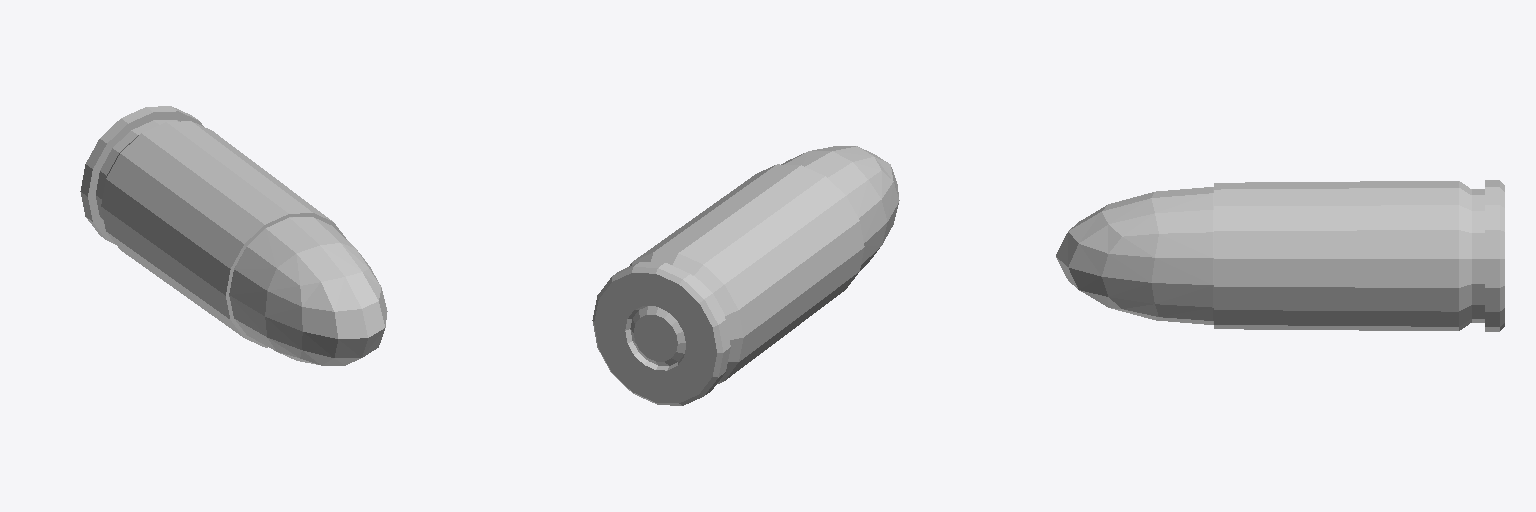
The model's file is bullet1.obj.
3 views of the same model, side by side, from view 1: azimuth 30°, elevation 25°; view 2: azimuth 150°, elevation 25°; view 3: azimuth 270°, elevation 25° (orthographic).
Visible parts, largest first — view 1: Bullet_9mm_Magazine_Low.001_Magazine.003; view 2: Bullet_9mm_Magazine_Low.001_Magazine.003; view 3: Bullet_9mm_Magazine_Low.001_Magazine.003.
Part boxes in pixels (x1,y1,x2,y2): Bullet_9mm_Magazine_Low.001_Magazine.003: (80, 106, 387, 365); Bullet_9mm_Magazine_Low.001_Magazine.003: (592, 146, 899, 405); Bullet_9mm_Magazine_Low.001_Magazine.003: (1056, 180, 1504, 331).
Size of the model in its own units: 0.01 by 0.01 by 0.0296.